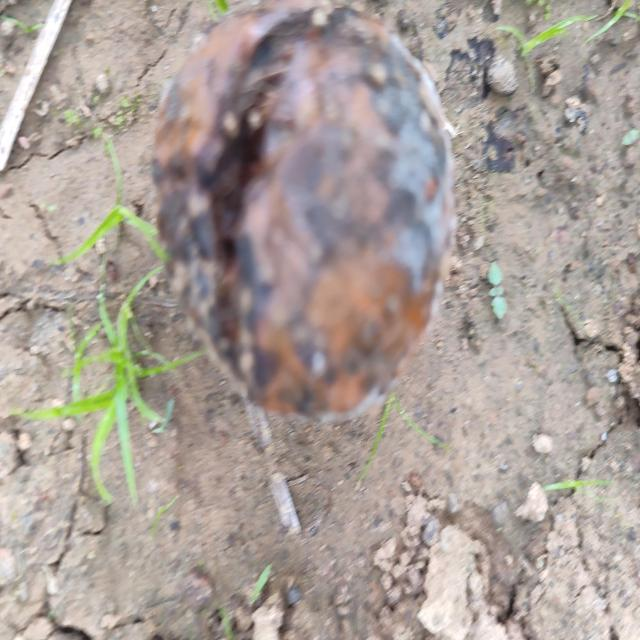damaged: (149, 0, 456, 423)
